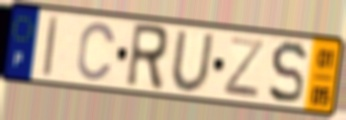C: (75, 20, 118, 84)
I: (41, 13, 61, 81)
R: (123, 21, 170, 94)
S: (267, 39, 309, 107)
U: (169, 29, 216, 95)
Z: (221, 35, 266, 101)
